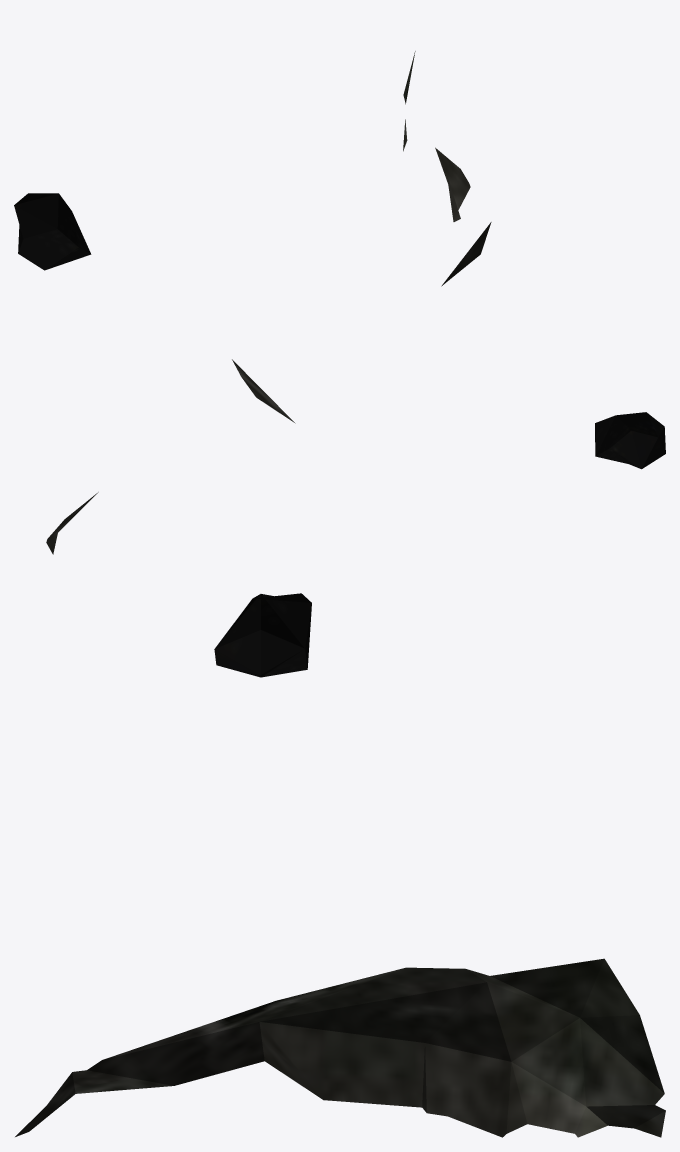
3 views of the same model, one above another, from view 1: azimuth 30°, elevation 25°; view 2: azimuth 150°, elevation 25°; view 3: azimuth 270°, elevation 25° (orthographic). The views are drawn at different scales.
Bounding box in the file's own units: 1.51 × 0.4727 × 1.24.
1 material, 1 textured.
